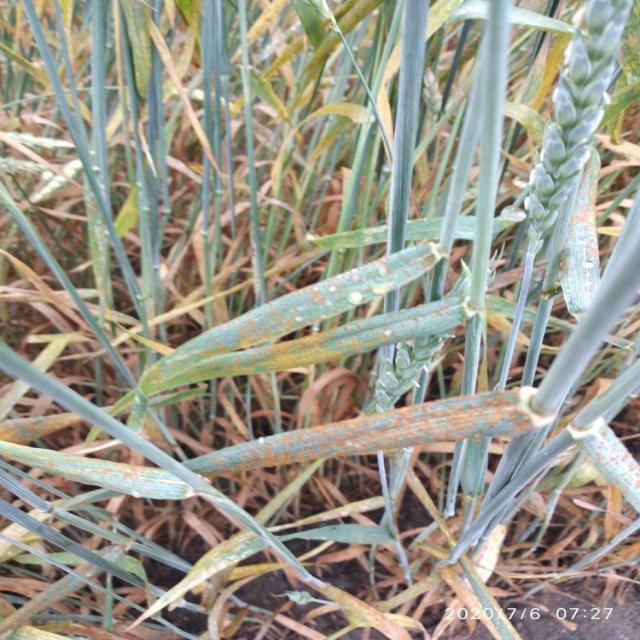wheat-septoria: (139, 244, 447, 384), (183, 388, 540, 478), (146, 297, 463, 395)
